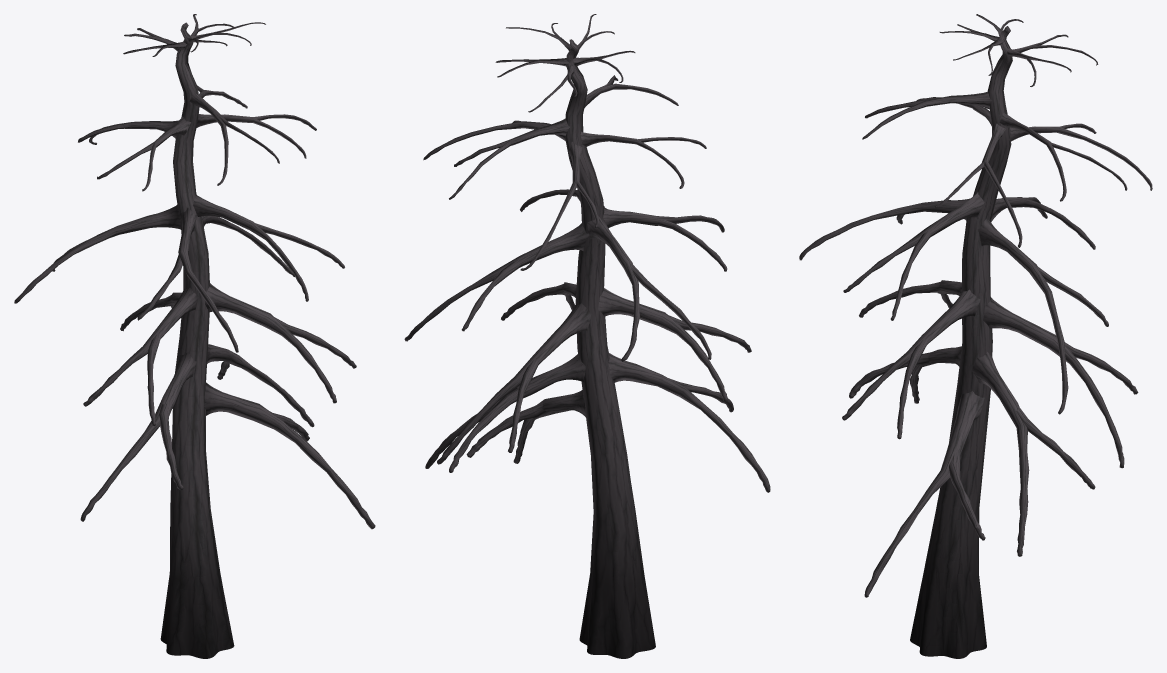
File: DeadTree_5.gltf
3 renders of one model, left to right at view 1: azimuth 30°, elevation 25°; view 2: azimuth 150°, elevation 25°; view 3: azimuth 270°, elevation 25°, orthographic. The views are drawn at different scales.
Parts seen in each view (by area): view 1: DeadTree_5; view 2: DeadTree_5; view 3: DeadTree_5.
Part boxes in pixels (<box>): DeadTree_5: <box>14,14,375,658</box>; DeadTree_5: <box>404,14,770,658</box>; DeadTree_5: <box>799,14,1152,658</box>.
Size of the model in its own units: 8.36 by 16.44 by 8.41.
1 material, 1 textured.
